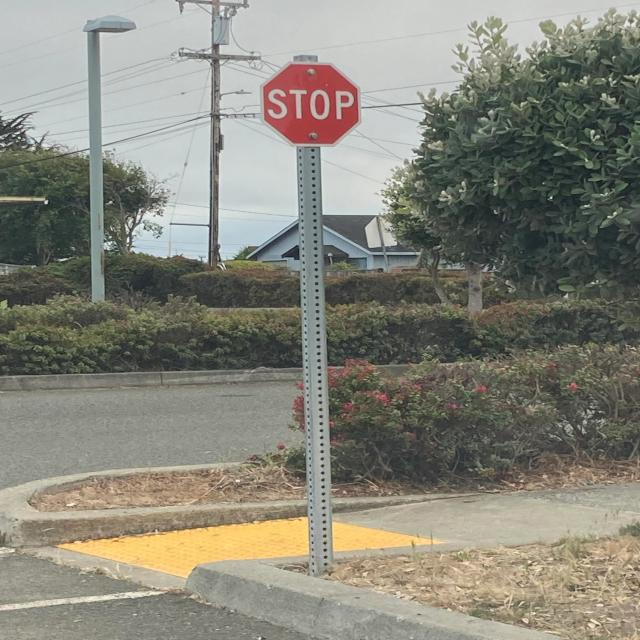stop: (262, 61, 366, 147)
